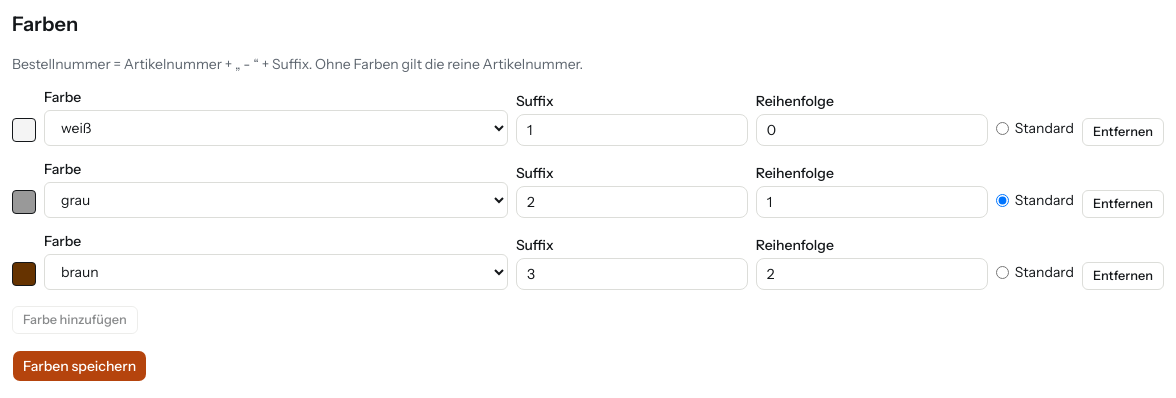
it: ColorSection › moves the default to the first remaining row when the default is removed
The width and height of the screenshot is (1176, 398).
Expected: the 2nd radio button labelled "Standard" is checked, [996,194,1009,206]
Click the button with aria-label "Farbe 2 entfernen".
click(1123, 204)  # box [1082,190,1164,218]
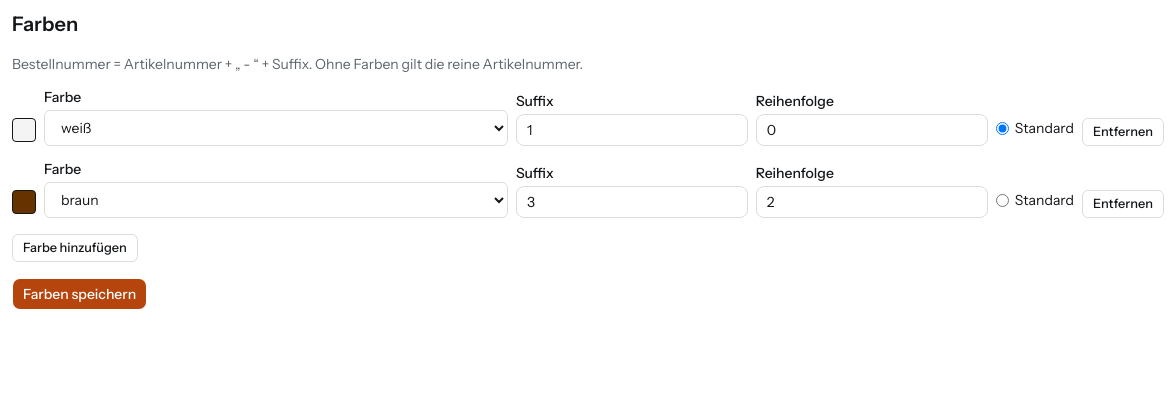
Result: the number of radio buttons is 2 at [996,122,1009,134]; [996,194,1009,206]
Result: the 1st radio button labelled "Standard" is checked at [996,122,1009,134]
